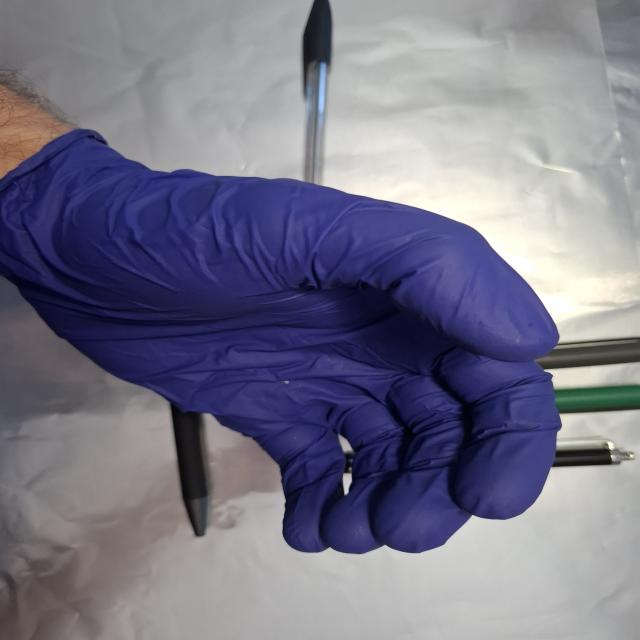glove_on: (4, 128, 571, 561)
